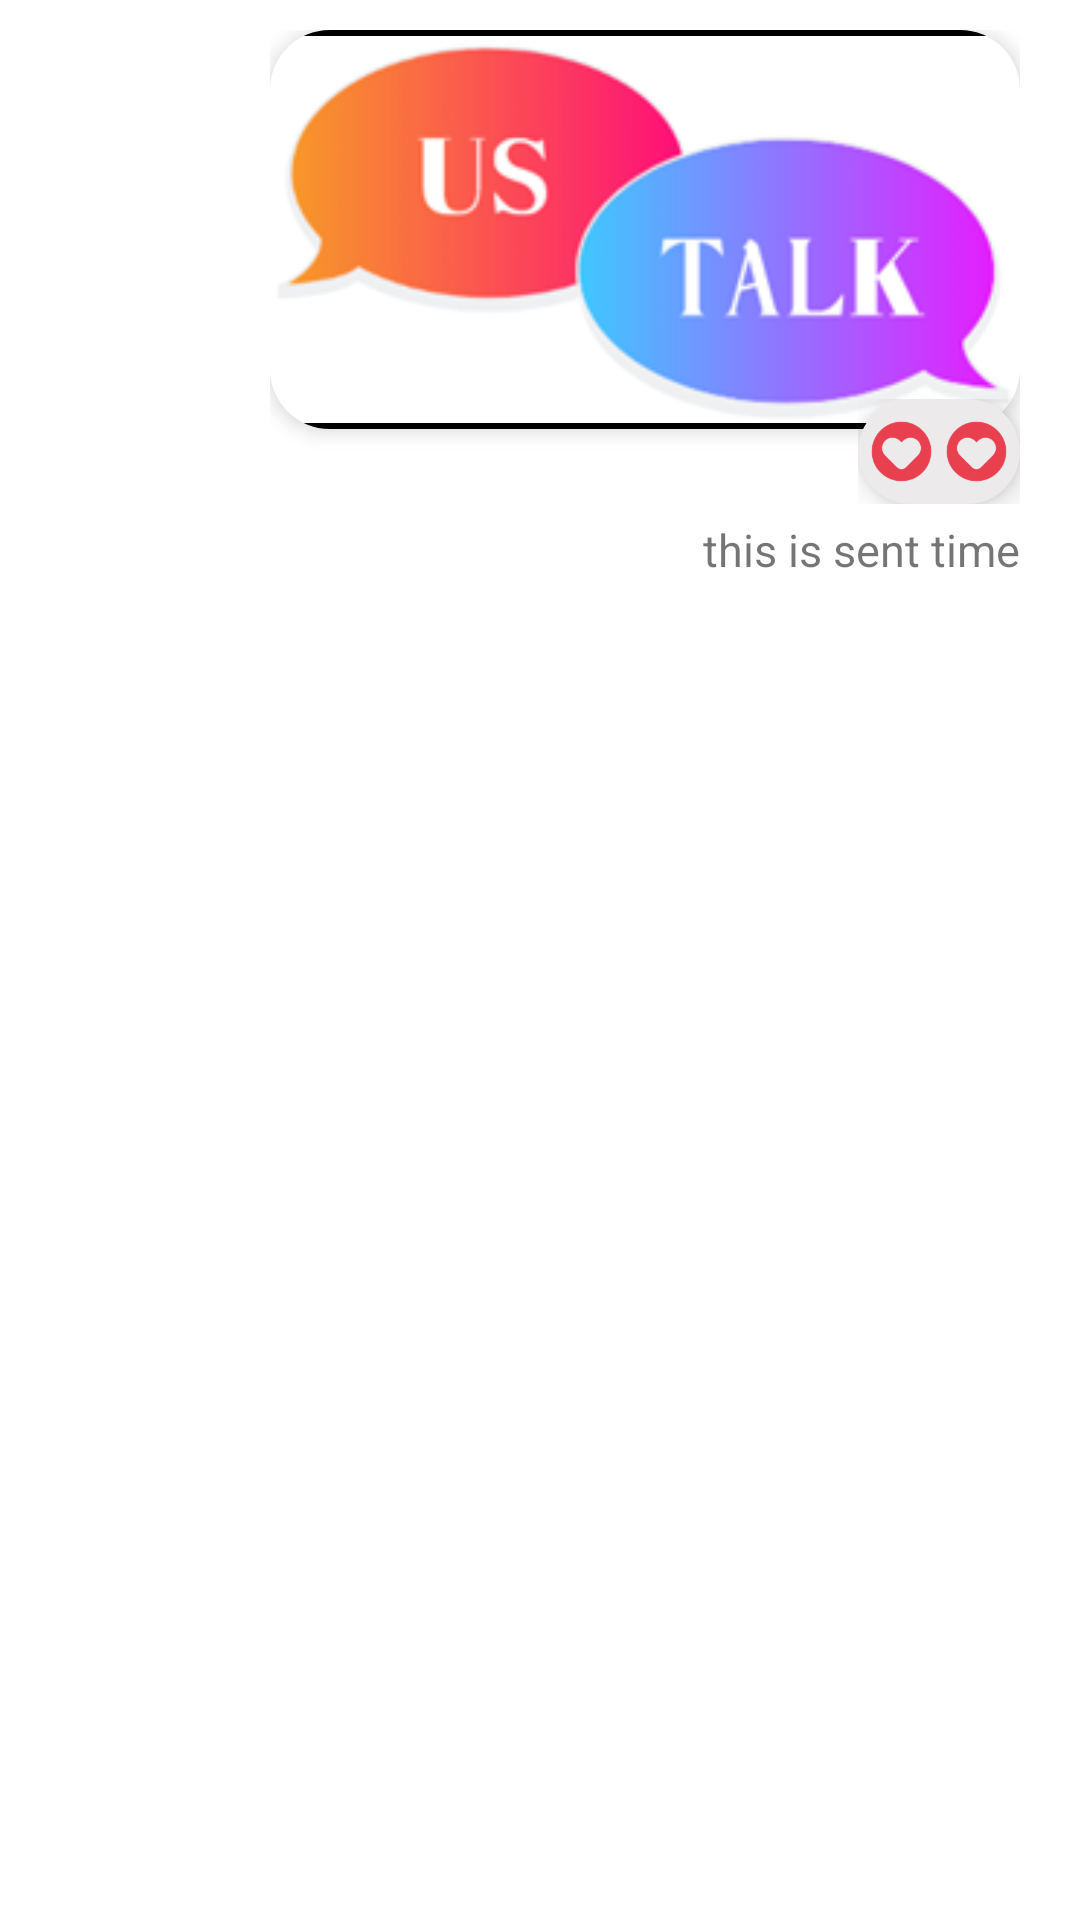

Named icons in this screenshot (1080px x 1920px) and their bounding boxes, (x1, y1, x2, y2):
react heart: (871, 421, 932, 482), (946, 421, 1007, 482)
